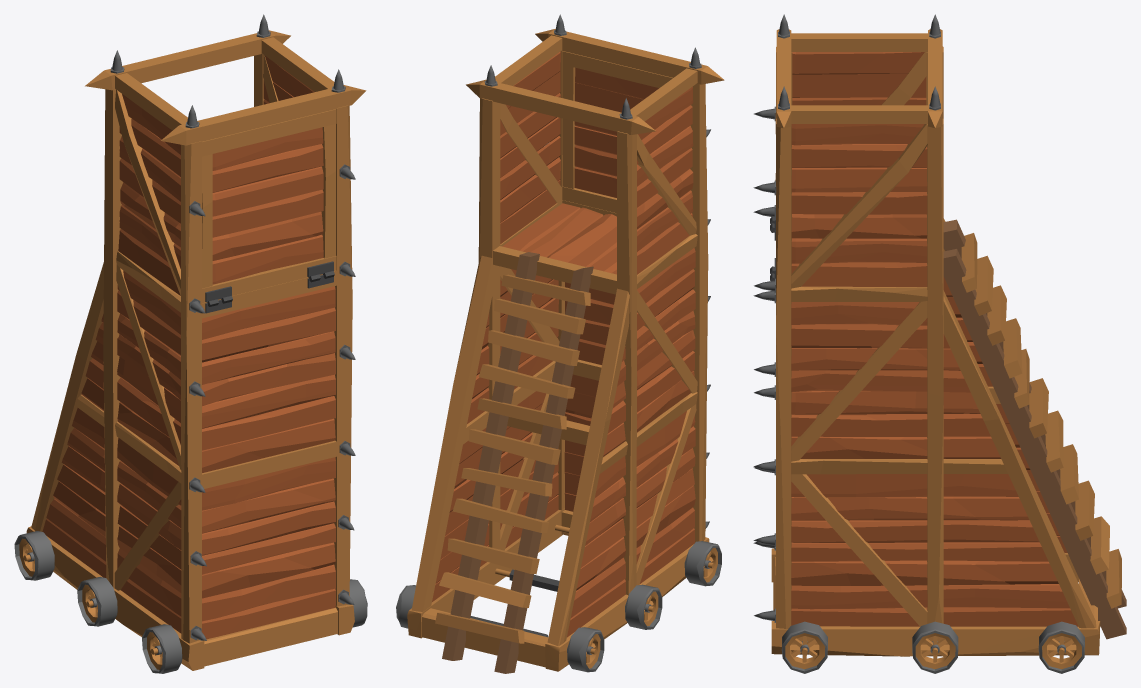
Rendered from SiegeTower_A.fbx.
The picture shows the model from 3 angles, left to right: view 1: azimuth 30°, elevation 25°; view 2: azimuth 150°, elevation 25°; view 3: azimuth 270°, elevation 25°; orthographic projection. The views are drawn at different scales.
Parts seen in each view (by area): view 1: SiegeTower_A; view 2: SiegeTower_A; view 3: SiegeTower_A.
Part boxes in pixels (<box>): SiegeTower_A: <box>14,14,367,673</box>; SiegeTower_A: <box>396,14,724,673</box>; SiegeTower_A: <box>753,14,1126,673</box>.
Size of the model in its own units: 301 by 785 by 463.
